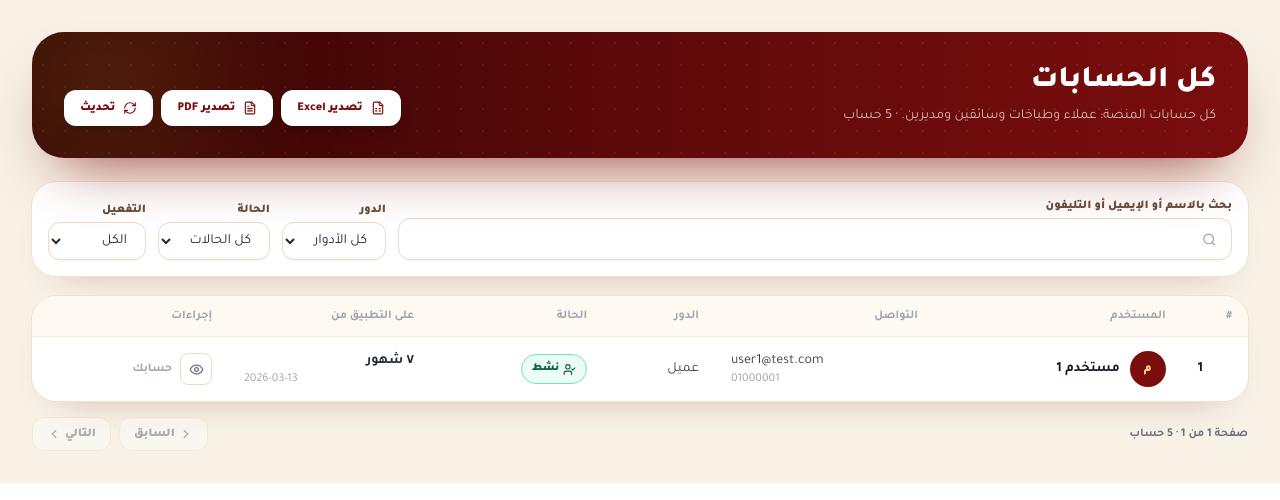
Scenario: Users Management (provisional /admin/users*) › a text search is debounced into ?q= and one request goes out
This screenshot has width=1280, height=500.
Check: the button "م مستخدم 1" is shown, box [1057,351,1166,387]
Step 1. Type "sara" into the search field labelled "بحث بالاسم أو الإيميل أو التليفون" → (804, 239), box [413,219,1194,259]
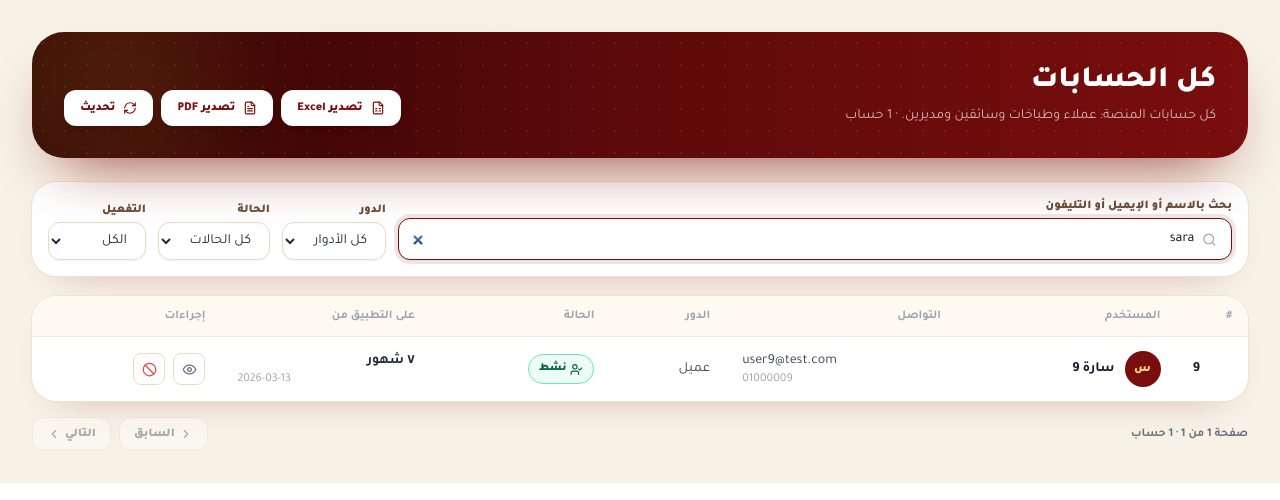
Check: the button "س سارة 9" is shown, box [1072,351,1160,387]
